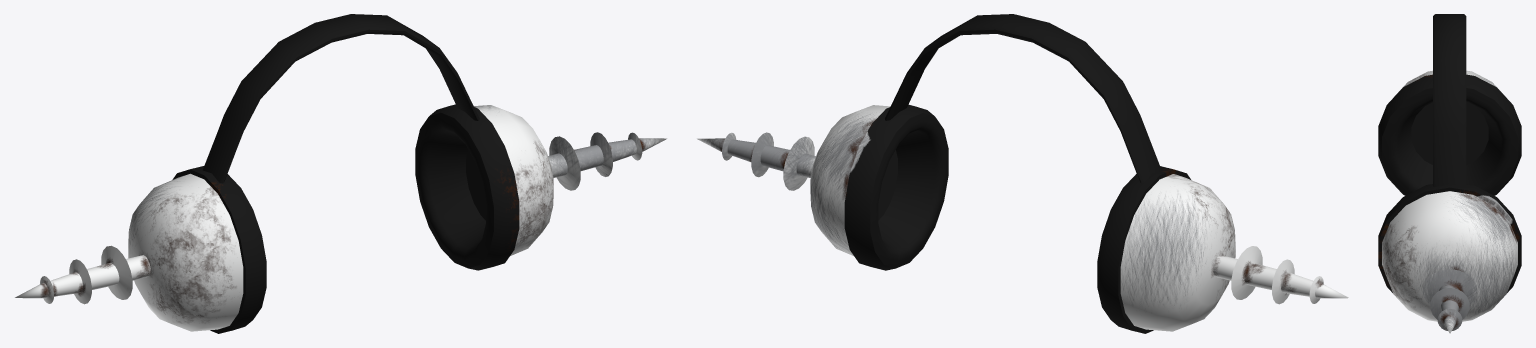
The model's file is Jet_Set_Radio_inspired_Headphones.glb.
3 renders of one model, left to right at view 1: azimuth 30°, elevation 25°; view 2: azimuth 150°, elevation 25°; view 3: azimuth 270°, elevation 25°, orthographic. The views are drawn at different scales.
Visible parts, largest first — view 1: LowPoly__0; view 2: LowPoly__0; view 3: LowPoly__0.
Boxes of the visible parts, bbox=[...] form: LowPoly__0: bbox=[15, 14, 666, 333]; LowPoly__0: bbox=[697, 14, 1348, 333]; LowPoly__0: bbox=[1378, 14, 1521, 333].
Size of the model in its own units: 87.56 by 34.59 by 19.25.
1 material, 1 textured.
